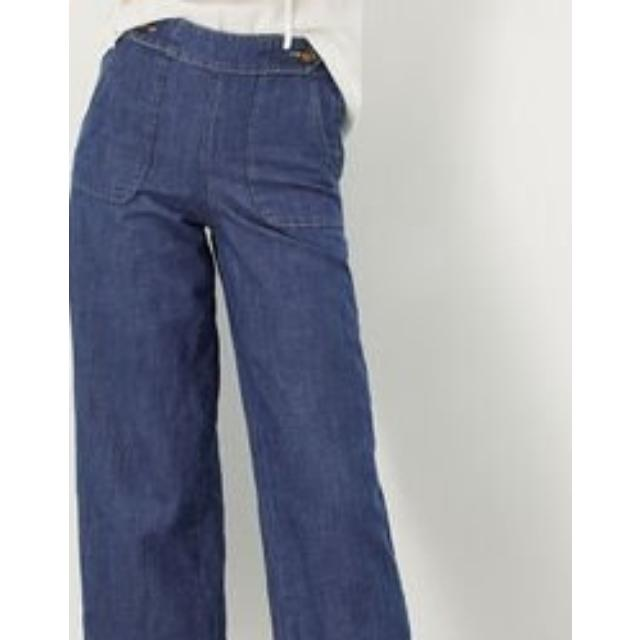denim: (68, 42, 410, 640)
